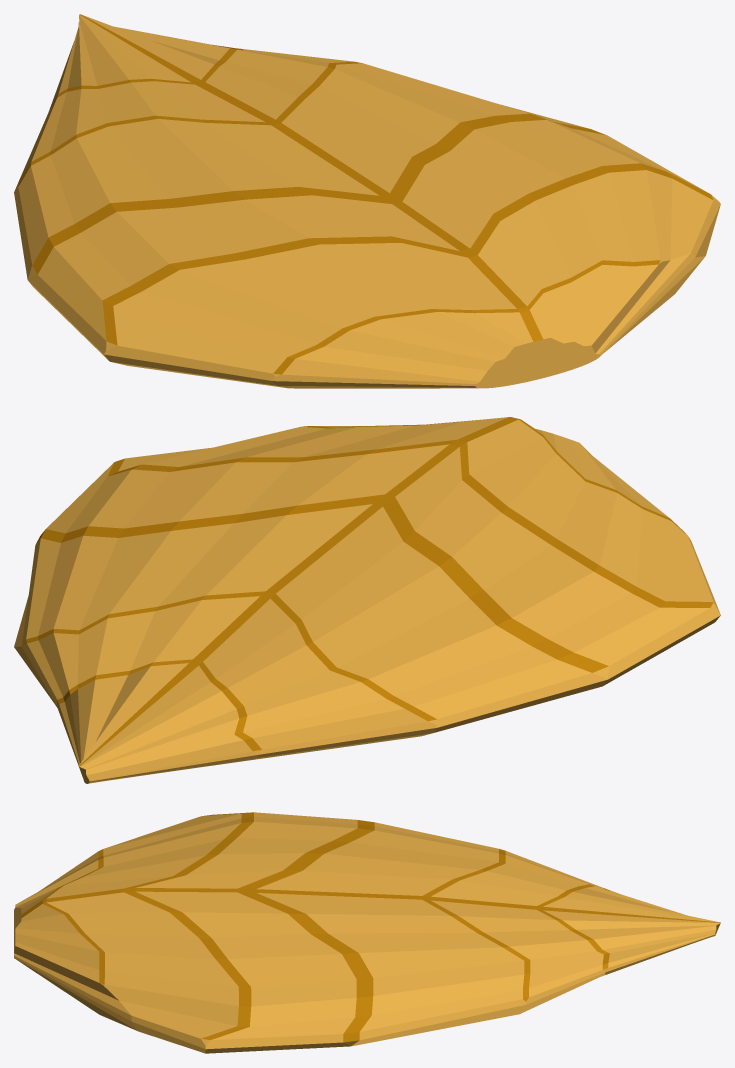
File: OrangeLeaf.fbx
3 views of the same model, one above another, from view 1: azimuth 30°, elevation 25°; view 2: azimuth 150°, elevation 25°; view 3: azimuth 270°, elevation 25° (orthographic). The views are drawn at different scales.
Parts seen in each view (by area): view 1: OrangeLeaf; view 2: OrangeLeaf; view 3: OrangeLeaf.
Boxes of the visible parts, x1,y1,x2,y2 form: OrangeLeaf: (14,14,720,388); OrangeLeaf: (14,417,720,783); OrangeLeaf: (14,812,720,1053).
Size of the model in its own units: 155 by 25.46 by 202.
